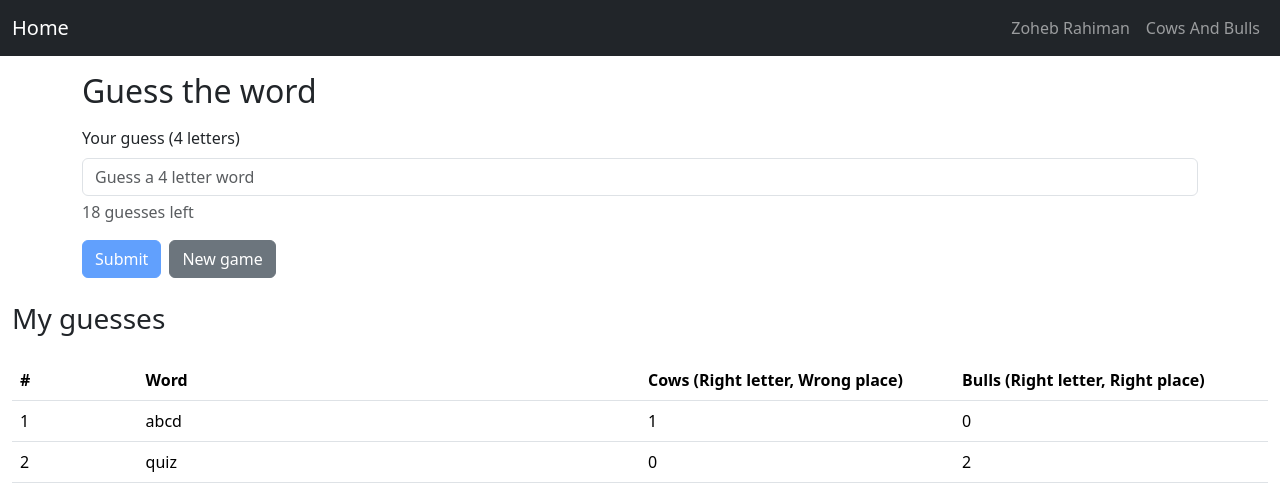
accessibility › does not announce on a win; the win message itself is a status
Type "fork" into the field labelled "Your guess (4 letters)".
click(640, 177); type("fork")  # box left=82, top=158, right=1198, bottom=196
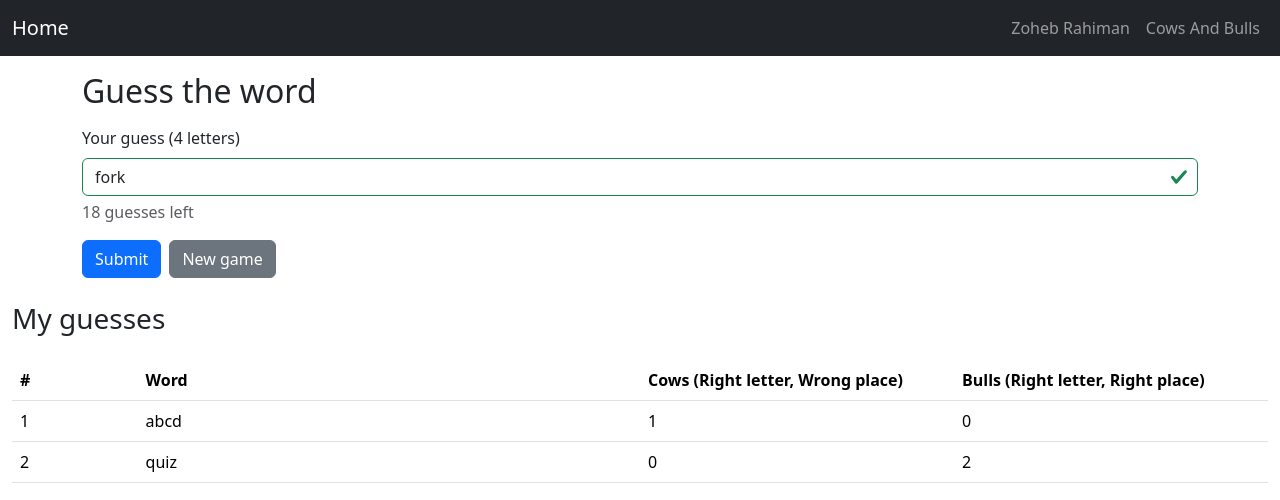
Click the button "Submit".
click(122, 259)  # box left=82, top=240, right=161, bottom=278
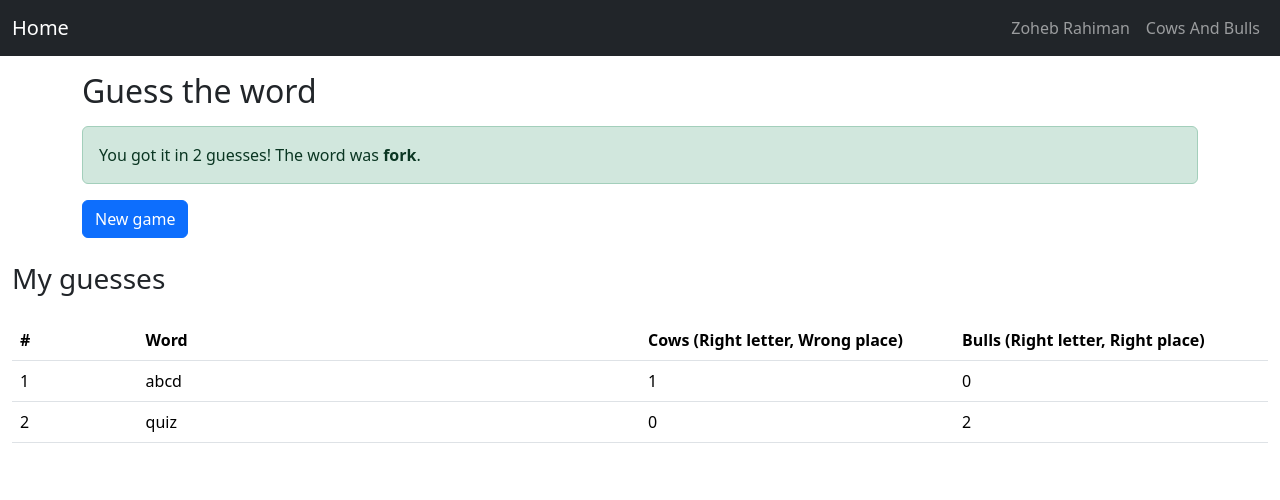
Check: the message shows "You got it", box left=99, top=144, right=193, bottom=166
